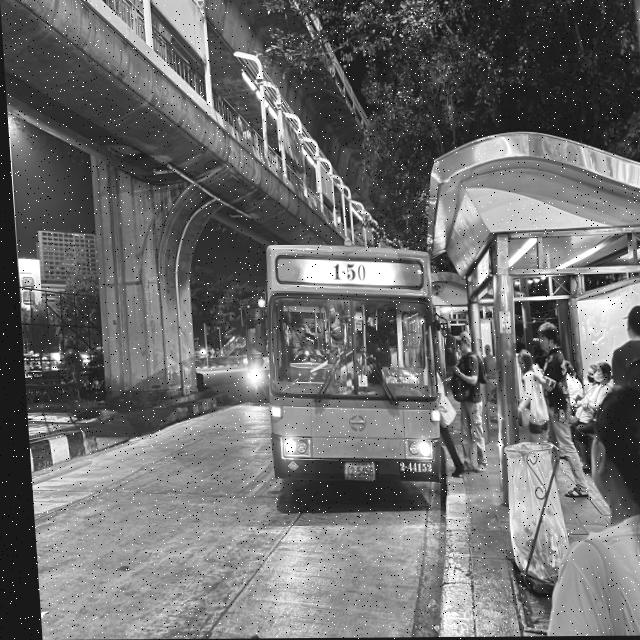BMTA-bus: (253, 245, 454, 512), (230, 300, 270, 407)
Bus-Line-Number: (324, 261, 367, 284)
Destination-Sign-Normal: (376, 367, 419, 398)
